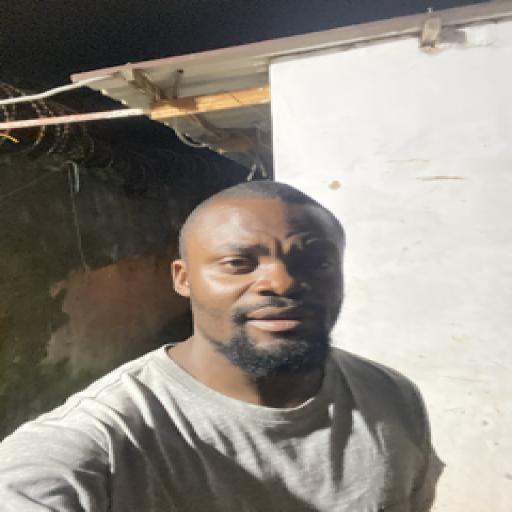JEANLUC: (174, 184, 360, 394)
